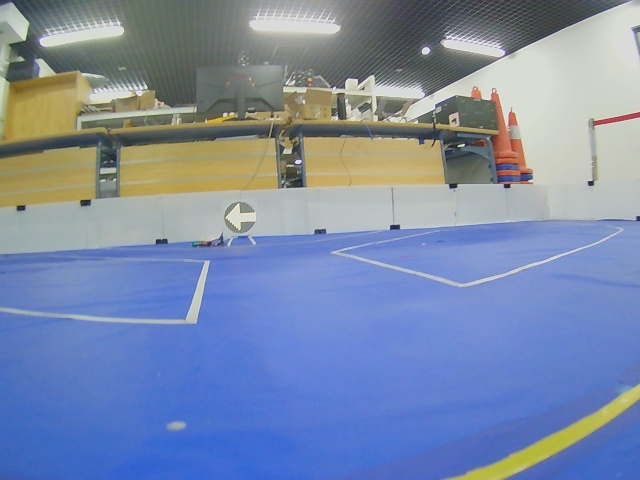left_yellow: (224, 202, 257, 234)
